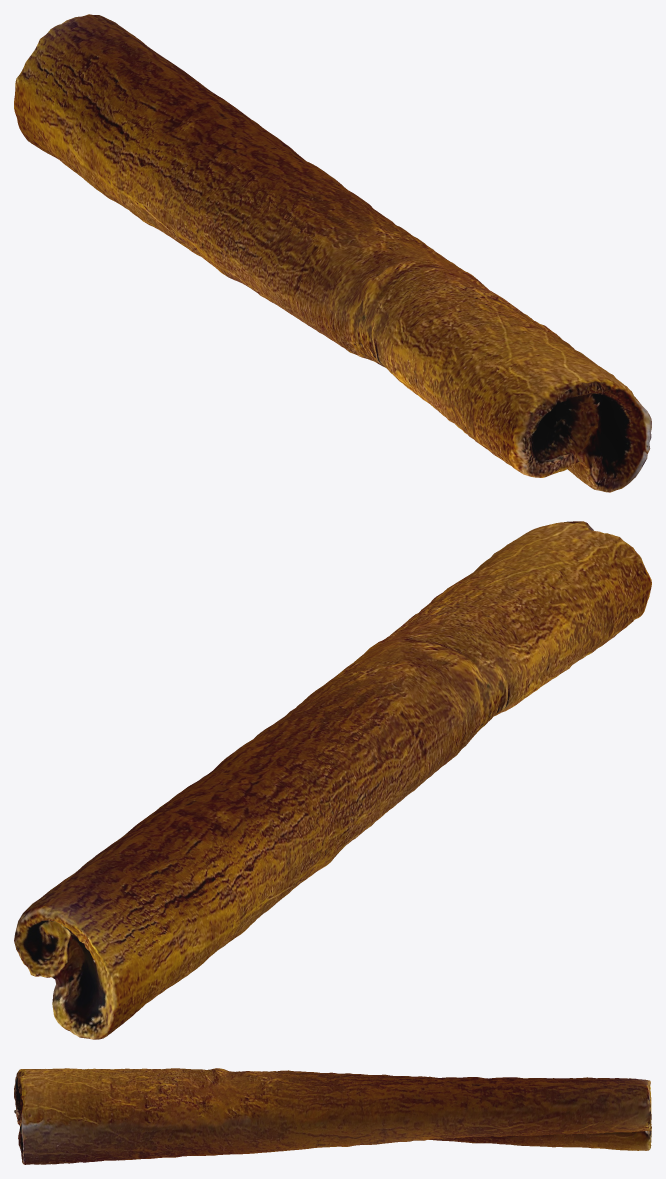
File: canela.glb
3 renders of one model, top to bottom at view 1: azimuth 30°, elevation 25°; view 2: azimuth 150°, elevation 25°; view 3: azimuth 270°, elevation 25°, orthographic. The views are drawn at different scales.
Visible parts, largest first — view 1: Object_4; view 2: Object_4; view 3: Object_4.
Boxes of the visible parts, x1,y1,x2,y2 form: Object_4: [14, 14, 651, 492]; Object_4: [14, 521, 651, 1039]; Object_4: [14, 1068, 651, 1164].
Size of the model in its own units: 0.1344 by 0.1151 by 0.8285.
Materials: 1 (1 with a texture image).
